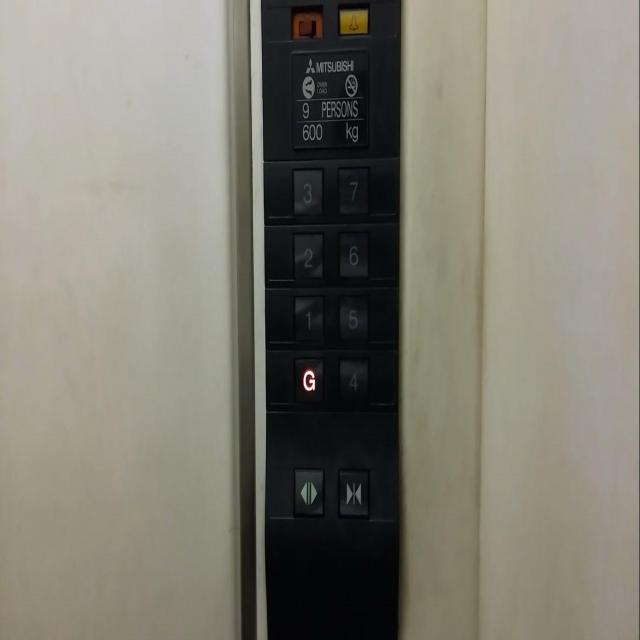1: (291, 289, 326, 344)
2: (290, 226, 324, 282)
3: (290, 164, 324, 218)
4: (336, 356, 371, 411)
5: (336, 292, 370, 346)
6: (336, 226, 370, 281)
7: (334, 164, 369, 218)
G: (291, 354, 326, 408)
alarm: (335, 1, 371, 40)
close: (336, 465, 370, 520)
open: (291, 464, 326, 518)
switch: (289, 0, 326, 44)
